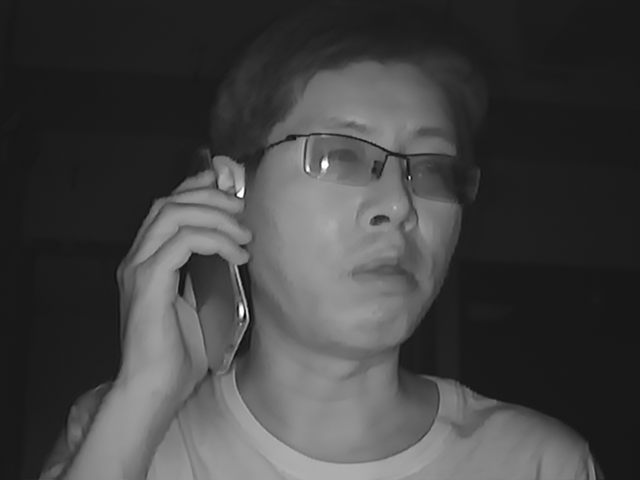hand: (111, 168, 252, 364)
